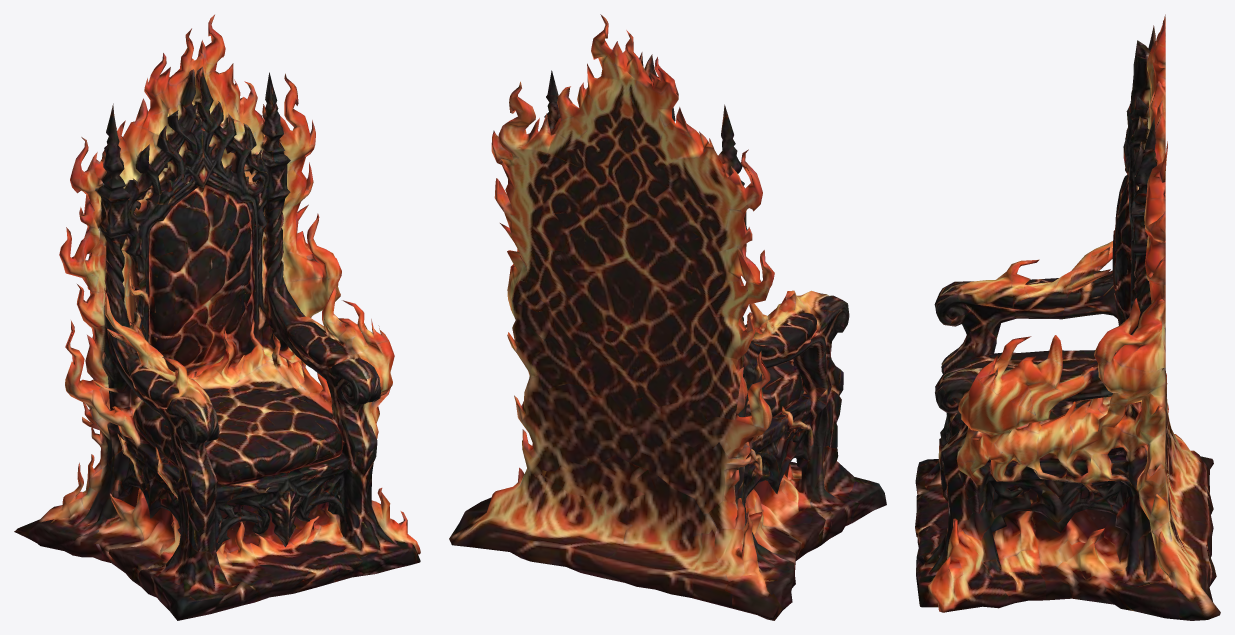
Rendered from infernalThrone.glb.
3 views of the same model, side by side, from view 1: azimuth 30°, elevation 25°; view 2: azimuth 150°, elevation 25°; view 3: azimuth 270°, elevation 25° (orthographic). The views are drawn at different scales.
Bounding box in the file's own units: 1.21 × 1.9 × 0.9748.
Materials: 1 (1 with a texture image).
